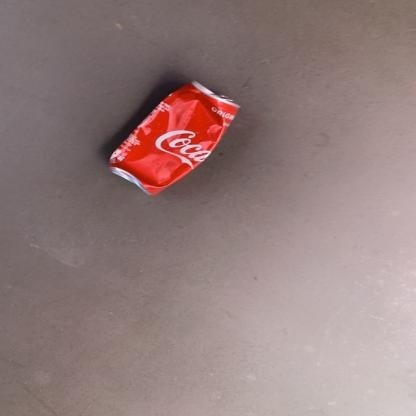trash: (110, 81, 238, 195)
